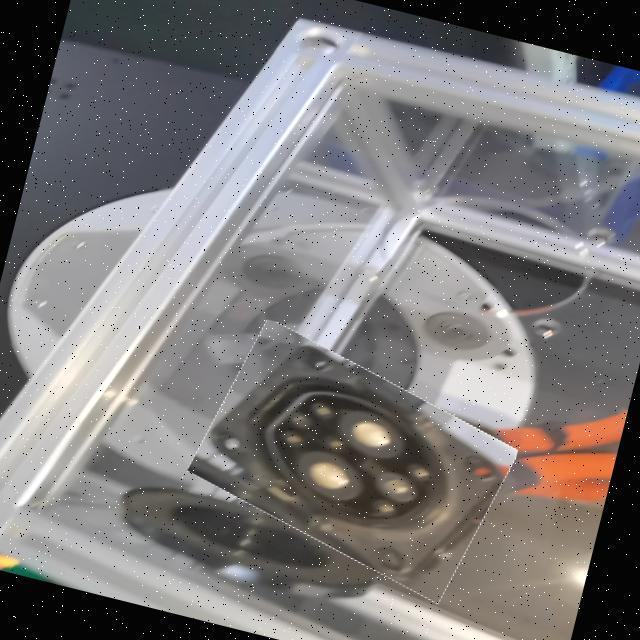GB-T: (203, 353, 484, 545)
